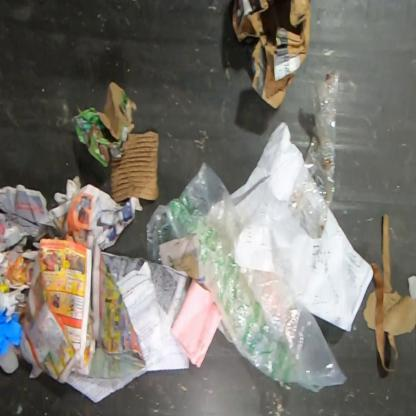cardboard: (232, 0, 311, 110), (72, 82, 138, 167), (109, 130, 160, 203), (383, 290, 415, 337), (363, 287, 377, 330)
soft_plastic: (146, 162, 348, 394), (290, 73, 341, 238)
